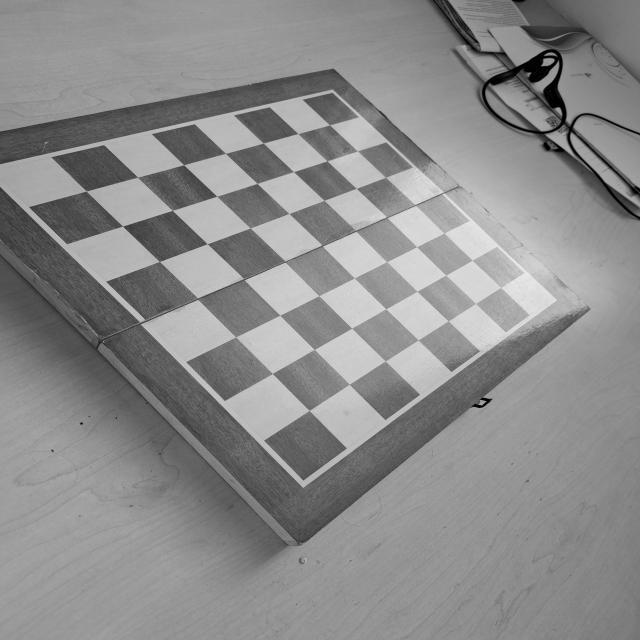chess-table-corners: (290, 471, 316, 489), (540, 292, 562, 306), (322, 87, 342, 100)
